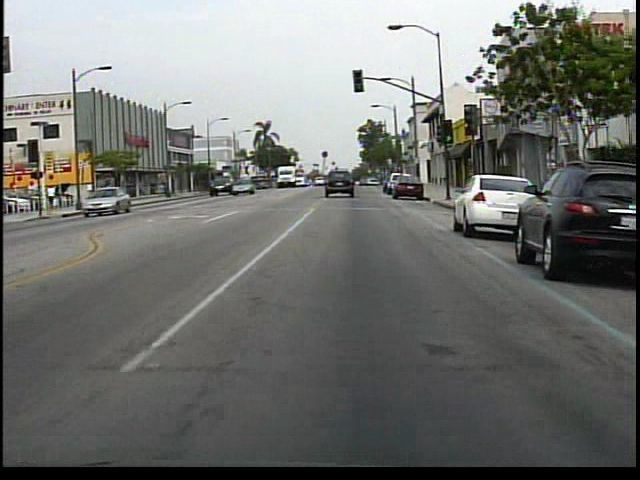person: (47, 182, 60, 211)
